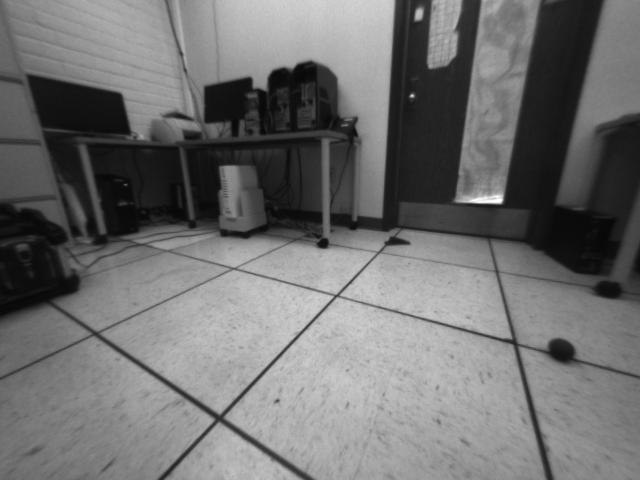dogtoy: (543, 333, 583, 372)
